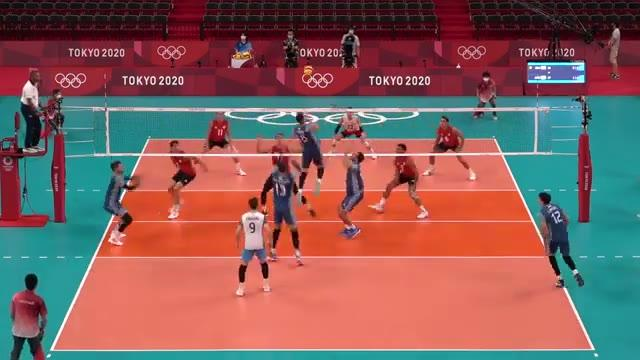ball: (305, 66, 314, 75)
